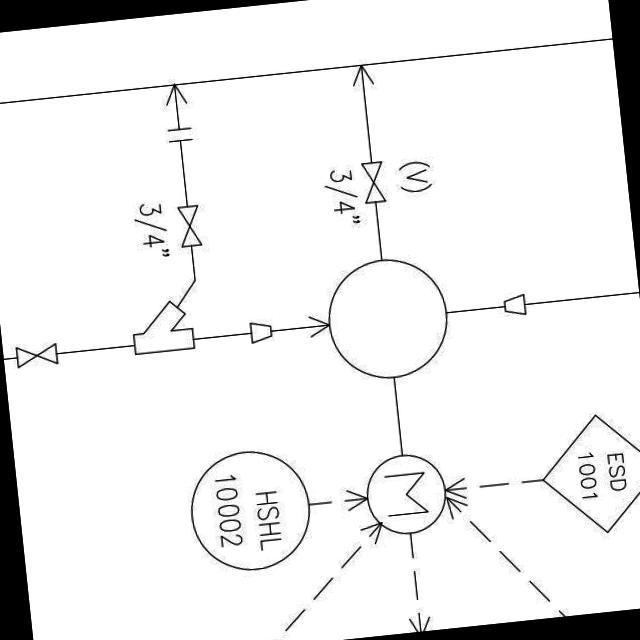GV: (9, 338, 64, 374), (172, 199, 206, 252), (356, 157, 388, 209)
M: (359, 450, 453, 540)
SP: (498, 288, 530, 320), (247, 319, 276, 346)
